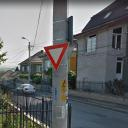preferencia: (42, 42, 73, 72)
